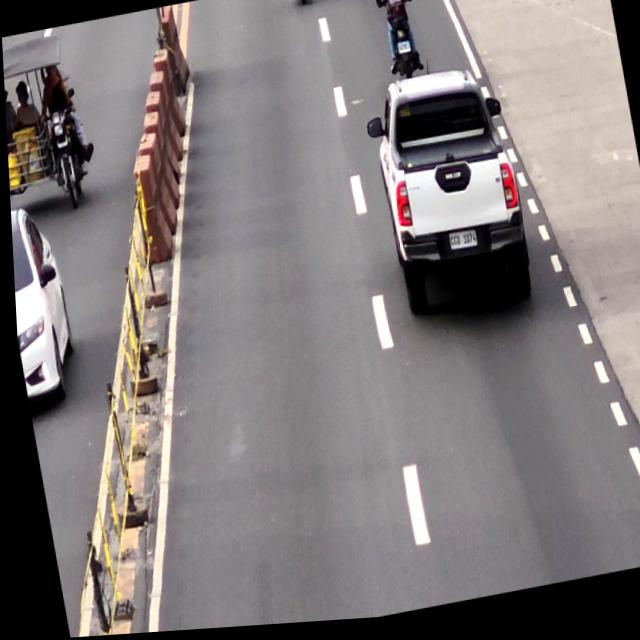Car: (361, 63, 530, 326)
License-Plate: (444, 232, 476, 257)
Motorcycle: (371, 0, 423, 85)
